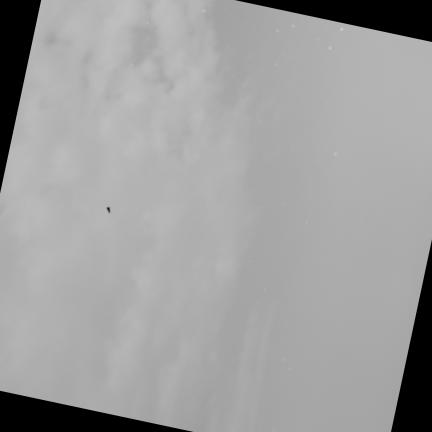Shahed: (107, 207, 110, 212)
